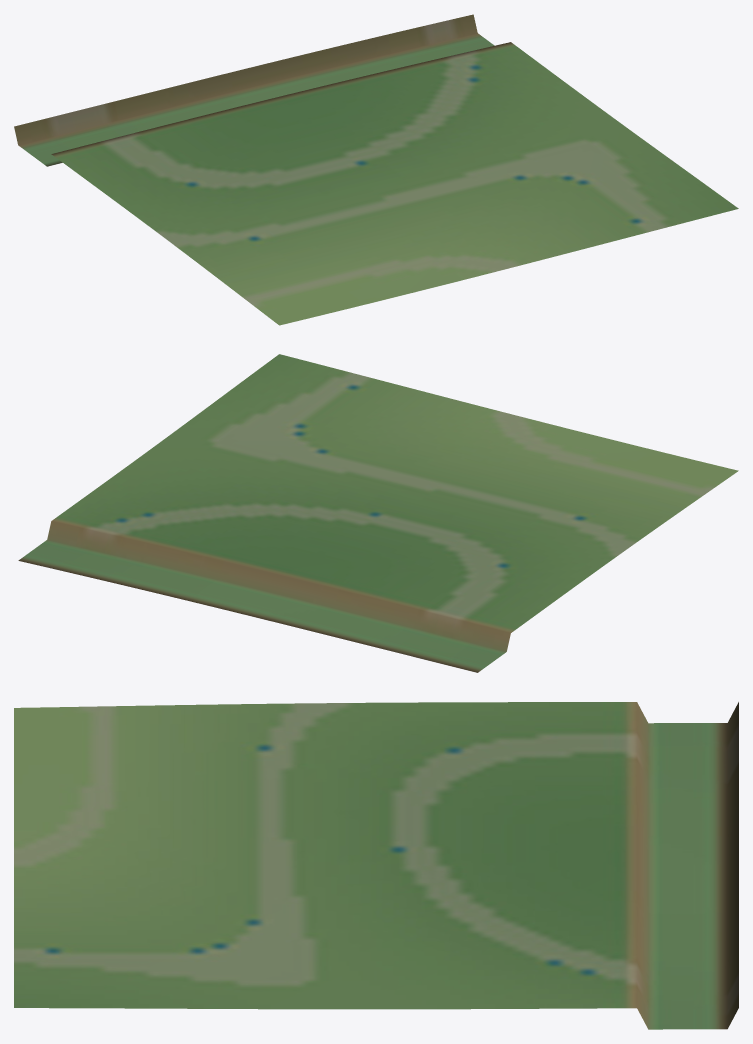
File: terrain_T_W04_S02.glb
The picture shows the model from 3 angles, top to bottom: view 1: azimuth 30°, elevation 25°; view 2: azimuth 150°, elevation 25°; view 3: azimuth 270°, elevation 25°; orthographic projection. The views are drawn at different scales.
Parts seen in each view (by area): view 1: Terrain_T_W04_S02; view 2: Terrain_T_W04_S02; view 3: Terrain_T_W04_S02.
Part boxes in pixels (x1,y1,x2,y2): Terrain_T_W04_S02: [14, 14, 738, 325]; Terrain_T_W04_S02: [18, 354, 738, 672]; Terrain_T_W04_S02: [14, 702, 738, 1029].
Bounding box in the file's own units: 2000 × 72.47 × 2000.
1 material, 1 textured.
